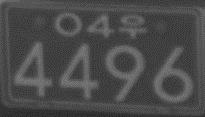0: (54, 10, 83, 37)
4: (59, 42, 100, 99), (14, 40, 53, 97), (85, 11, 114, 38)
6: (151, 45, 194, 104)
9: (103, 43, 145, 101)
우: (118, 12, 147, 38)
